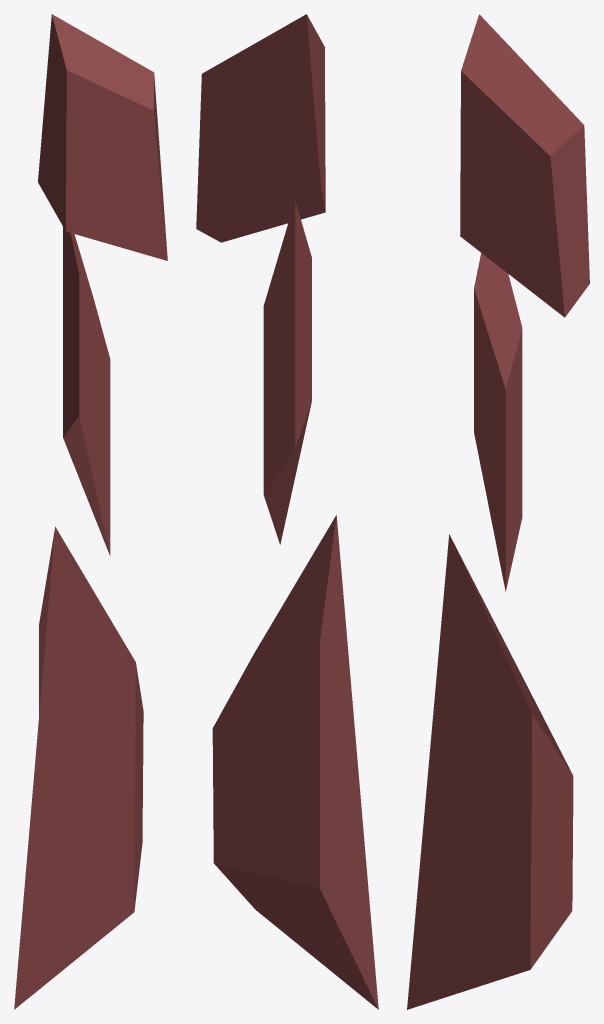
The model's file is Wood_Pieces.fbx.
The picture shows the model from 3 angles, left to right: view 1: azimuth 30°, elevation 25°; view 2: azimuth 150°, elevation 25°; view 3: azimuth 330°, elevation 25°; orthographic projection. The views are drawn at different scales.
Visible parts, largest first — view 1: Shard_01, Shard_03, Shard_02; view 2: Shard_01, Shard_03, Shard_02; view 3: Shard_01, Shard_03, Shard_02.
Boxes of the visible parts, <box> form: Shard_01: <box>14,526,143,1009</box>; Shard_03: <box>38,14,167,260</box>; Shard_02: <box>63,227,110,555</box>; Shard_01: <box>212,515,378,1009</box>; Shard_03: <box>196,14,325,242</box>; Shard_02: <box>263,200,311,544</box>; Shard_01: <box>407,534,573,1009</box>; Shard_03: <box>460,14,589,317</box>; Shard_02: <box>474,253,522,591</box>.
Size of the model in its own units: 0.1252 by 0.7178 by 0.0219.
